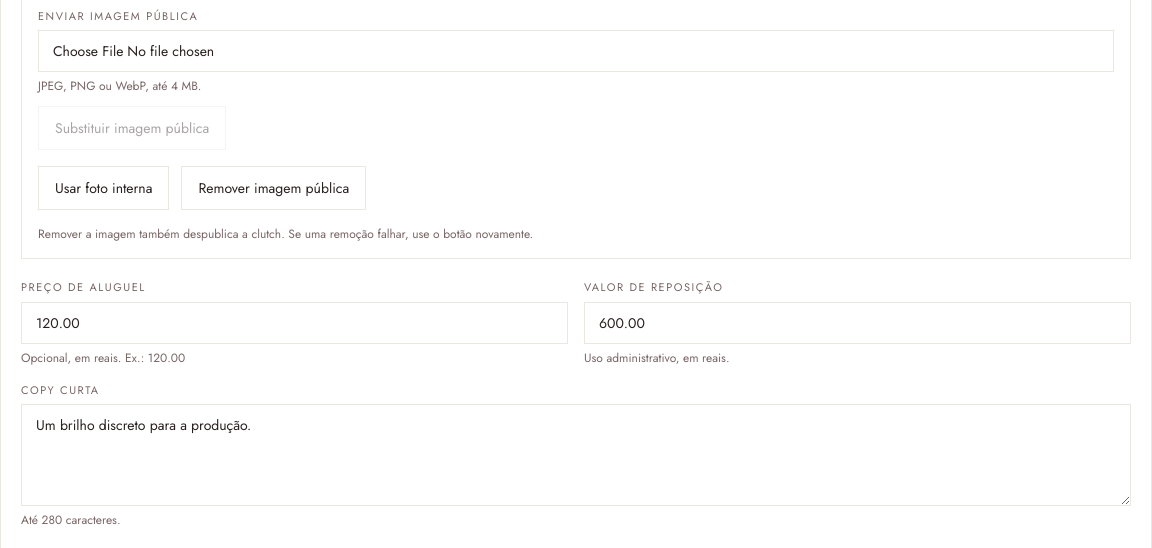
Test: Paixão Clutch admin curation › removes the public preview and unchecks publication
The image size is (1152, 548).
(page scrolled)
Click the button "Remover imagem pública" at point(274, 188), box [182, 166, 366, 210]
(page scrolled)
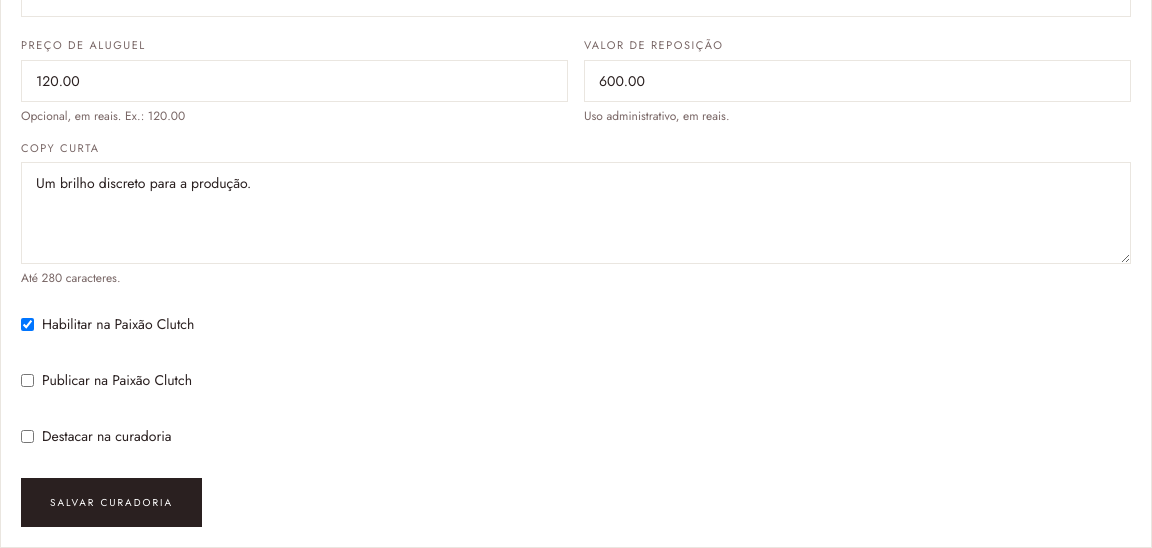
Expected: the checkbox labelled "Publicar na Paixão Clutch" is not checked, [21, 374, 34, 386]
